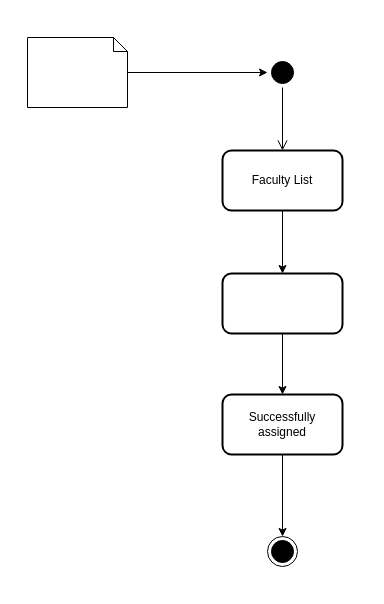
Some shapes in this 384 by 604 pixel diagram are drawn without their labels. The shapes that lost their labels are listed below. From the top down, each one's centre as x and y in pixels, then its label:
the point at 77,72: User is Logged in as Admin
the point at 282,303: Assign a faculty as Coordinator
